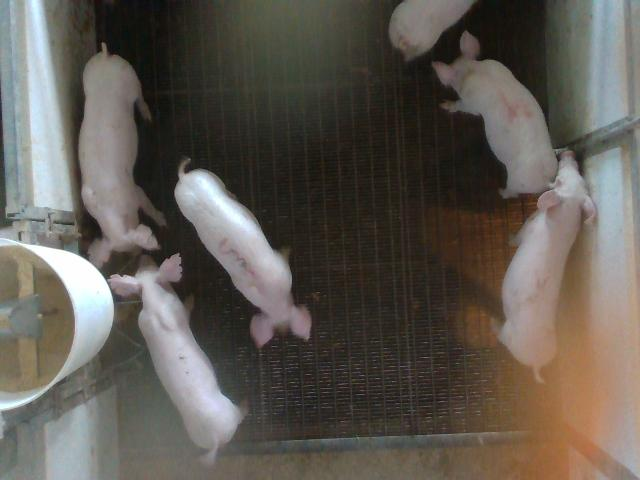pig-3: (176, 158, 311, 347)
pig-4: (432, 31, 558, 198)
